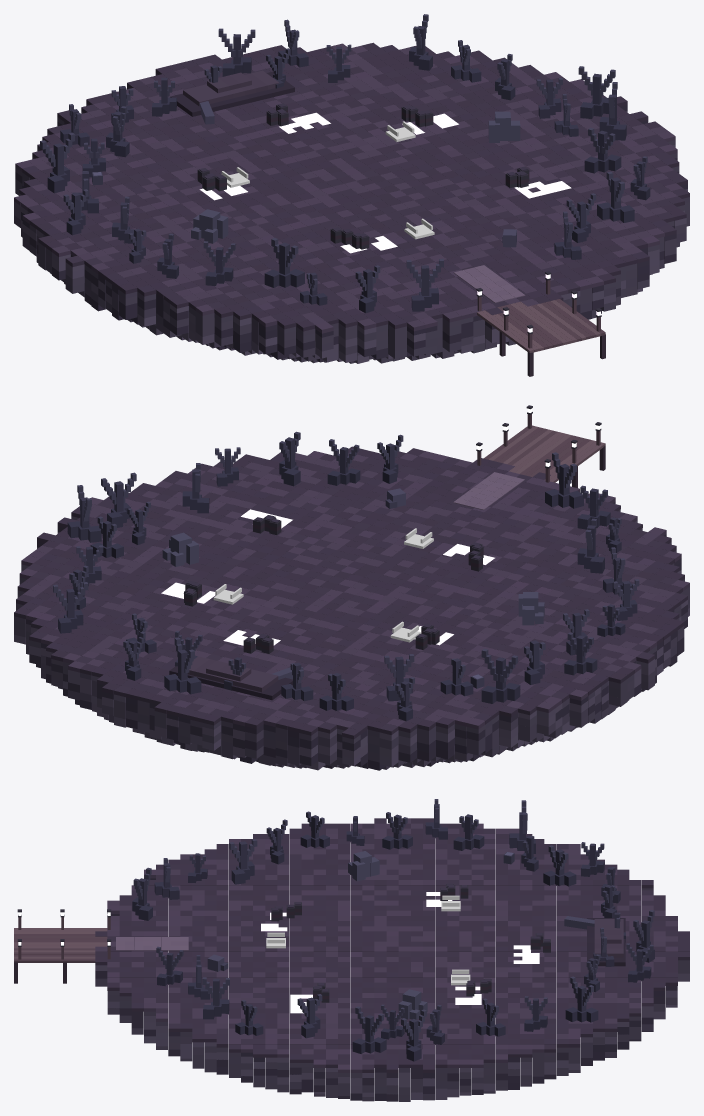
File: landing_polluted.glb
3 renders of one model, top to bottom at view 1: azimuth 30°, elevation 25°; view 2: azimuth 150°, elevation 25°; view 3: azimuth 270°, elevation 25°, orthographic. The views are drawn at different scales.
Visible parts, largest first — view 1: landing_blocks, tree4_(0, 0).006, tree2_(0, 0).006, tree5_(0, 0).002, tree2_(0, 0).009, tree1_(0, 0).003, tree4_(0, 0).005, tree5_(0, 0).001, rock_outcrop_(0, 0).001, tree2_(0, 0).004, rock_outcrop_(0, 0).002, tree2_(0, 0).007 (+17 smaller); view 2: landing_blocks, tree5_(0, 0).002, tree2_(0, 0).009, tree5_(0, 0).001, tree2_(0, 0).003, tree2_(0, 0).005, tree2_(0, 0).006, tree2_(0, 0).007, rock_outcrop_(0, 0).002, tree4_(0, 0).007, tree4_(0, 0).001, tree4_(0, 0).005 (+18 smaller); view 3: landing_blocks, tree2_(0, 0).003, tree2_(0, 0).005, tree4_(0, 0).006, tree4_(0, 0).005, tree1_(0, 0).001, tree2_(0, 0).006, rock_outcrop_(0, 0).001, tree0_(0, 0).002, tree1_(0, 0).005, tree2_(0, 0).009, tree1_(0, 0).003 (+13 smaller).
Boxes of the visible parts, x1,y1,x2,y2 form: landing_blocks: [14, 42, 689, 376]; tree4_(0, 0).006: [264, 237, 304, 287]; tree2_(0, 0).006: [578, 66, 615, 118]; tree5_(0, 0).002: [40, 132, 74, 193]; tree2_(0, 0).009: [406, 258, 443, 311]; tree1_(0, 0).003: [584, 127, 621, 173]; tree4_(0, 0).005: [597, 171, 634, 222]; tree5_(0, 0).001: [218, 28, 255, 76]; rock_outcrop_(0, 0).001: [191, 209, 228, 243]; tree2_(0, 0).004: [203, 241, 235, 285]; rock_outcrop_(0, 0).002: [488, 111, 520, 142]; tree2_(0, 0).007: [566, 193, 596, 242]; landing_blocks: [14, 405, 689, 770]; tree5_(0, 0).002: [481, 648, 520, 703]; tree2_(0, 0).009: [545, 452, 583, 508]; tree5_(0, 0).001: [164, 637, 201, 694]; tree2_(0, 0).003: [101, 472, 136, 527]; tree2_(0, 0).005: [53, 582, 88, 633]; tree2_(0, 0).006: [67, 485, 101, 542]; tree2_(0, 0).007: [327, 439, 360, 485]; rock_outcrop_(0, 0).002: [162, 532, 198, 566]; tree4_(0, 0).007: [564, 632, 597, 675]; tree4_(0, 0).001: [577, 485, 610, 529]; tree4_(0, 0).005: [279, 431, 300, 486]; landing_blocks: [14, 818, 689, 1101]; tree2_(0, 0).003: [352, 1006, 386, 1053]; tree2_(0, 0).005: [565, 976, 598, 1022]; tree4_(0, 0).006: [229, 839, 257, 884]; tree4_(0, 0).005: [202, 977, 229, 1019]; tree1_(0, 0).001: [543, 845, 576, 886]; tree2_(0, 0).006: [401, 1009, 426, 1061]; rock_outcrop_(0, 0).001: [348, 851, 379, 881]; tree0_(0, 0).002: [453, 814, 484, 850]; tree1_(0, 0).005: [382, 812, 412, 849]; tree2_(0, 0).009: [132, 867, 152, 920]; tree1_(0, 0).003: [297, 994, 322, 1038].
Bounding box in the file's own units: 61.24 × 14.88 × 69.62.
